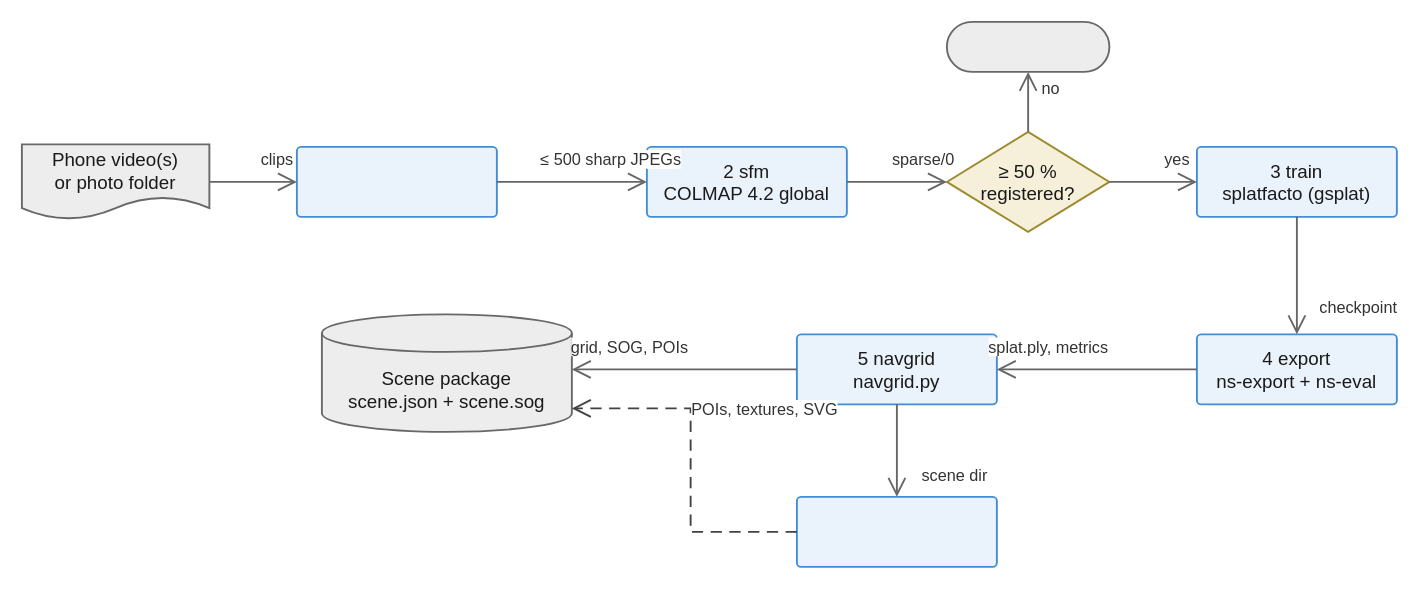
The diagram is 1420 pixels wide and 590 high, and some of its shapes have lost their labels. The shapes that lost their labels are listed below. From the top down, each one's box as (x1, y1, x2, y2) in pixels, then its label:
(945, 20, 1110, 72): stop with hint
(295, 145, 497, 217): 1 frames ffmpeg + Laplacian
(795, 495, 997, 567): post-steps: autopoi, surfaces, floorplan
